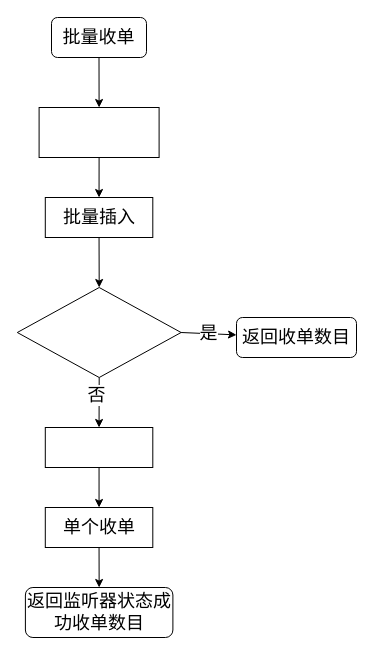
Some shapes in this 375 by 655 pixel diagram are drawn without their labels. The shapes that lost their labels are listed below. From the top down, each one's centre as x and y in pixels, then its label:
At pixel 98 132: "初始化计费单".
At pixel 98 332: "是否批量 插入成功".
At pixel 98 447: "新建监听器".
